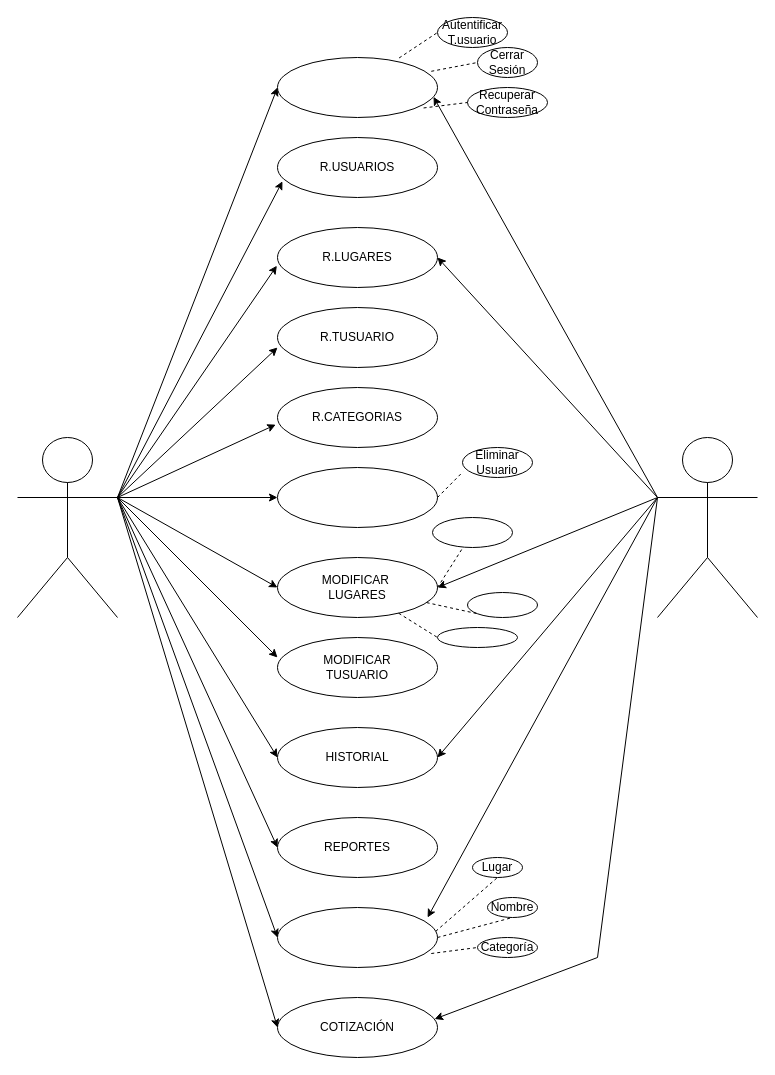
Some shapes in this 775 by 1075 pixel diagram are drawn without their labels. Here are the shapes that lost their labels. From the top down, the centre of each, then its label:
(x=357, y=87): LOGIN
(x=357, y=497): MODIFICAR USUARIO
(x=67, y=527): V.FAST
(x=472, y=532): Eliminar Lugares
(x=707, y=527): Usuario Lugares
(x=502, y=605): Fotografías
(x=477, y=637): Comentarios
(x=357, y=937): BÚSQUEDA
